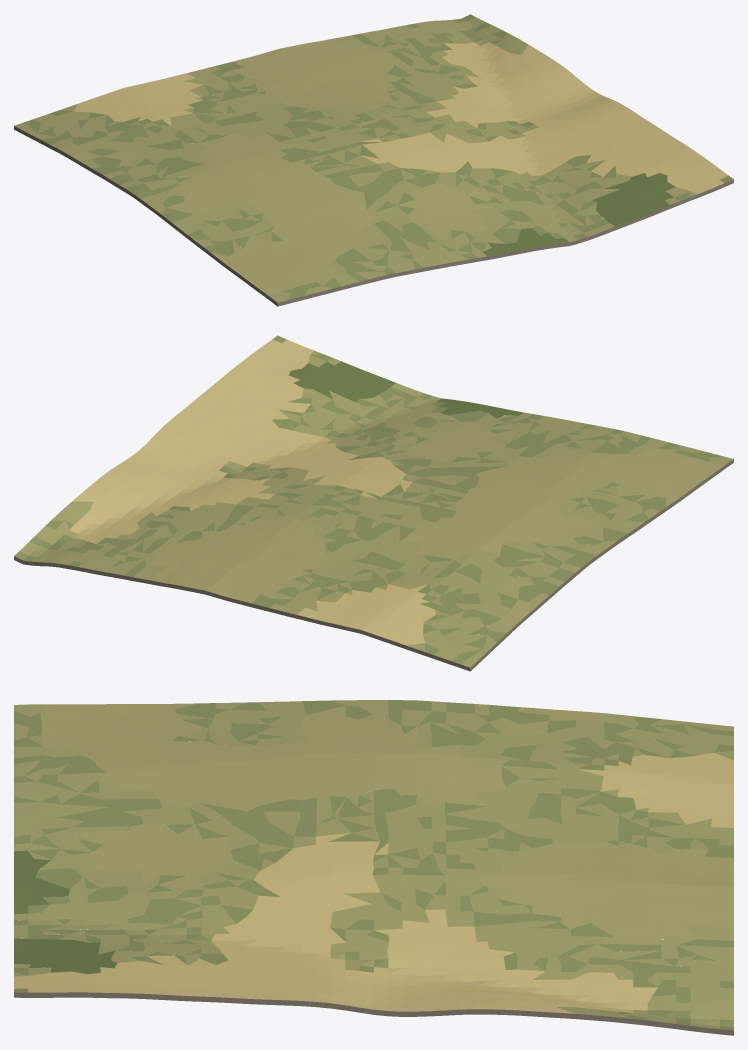
File: parca_+3_+1-uzak.glb
The picture shows the model from 3 angles, top to bottom: view 1: azimuth 30°, elevation 25°; view 2: azimuth 150°, elevation 25°; view 3: azimuth 270°, elevation 25°; orthographic projection. The views are drawn at different scales.
Visible parts, largest first — view 1: parca_+3_+1_arazi_uzak; view 2: parca_+3_+1_arazi_uzak; view 3: parca_+3_+1_arazi_uzak.
Part boxes in pixels (x1,y1,x2,y2): parca_+3_+1_arazi_uzak: (14, 14, 733, 306); parca_+3_+1_arazi_uzak: (14, 335, 733, 671); parca_+3_+1_arazi_uzak: (14, 700, 733, 1035).
Size of the model in its own units: 1000 by 71.11 by 1000.
